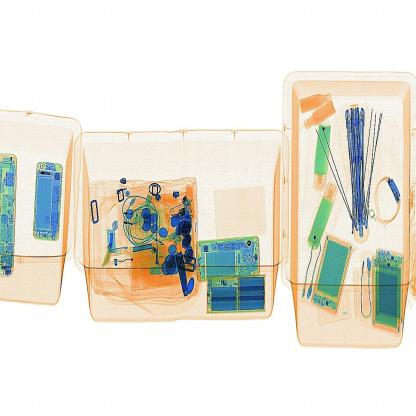wrench: (95, 224, 117, 272)
